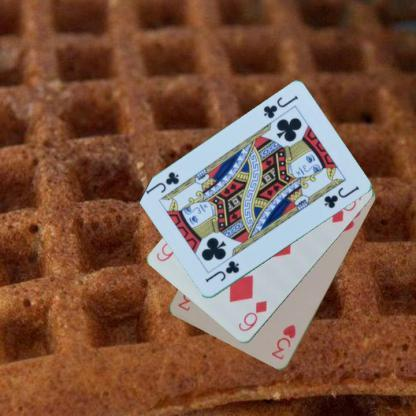3h: (268, 322, 298, 362)
6d: (235, 298, 268, 334)
Jc: (261, 93, 299, 120), (203, 258, 240, 284)
